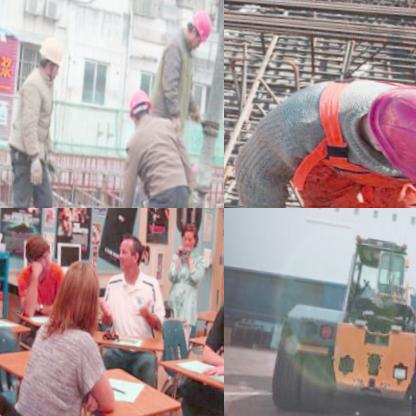head: (54, 253, 106, 322), (113, 227, 145, 274), (22, 230, 53, 270), (176, 216, 201, 253)
helmet: (357, 80, 416, 194), (123, 81, 155, 131), (35, 30, 66, 80), (182, 5, 215, 48)
